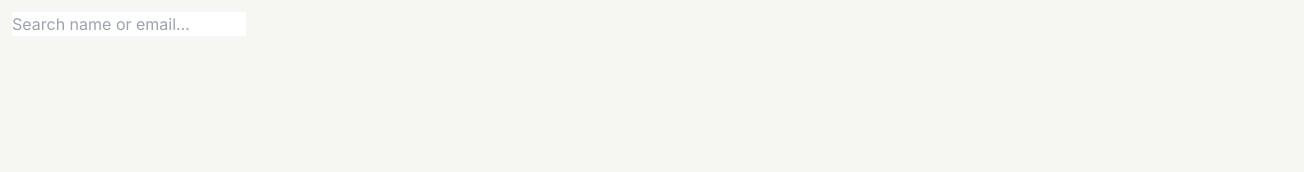
Test: ContactEmailAutocomplete keyboard and filtering › never suggests an excluded address, whatever its case
Type "al" into the dropdown labelled "email" at (129, 24), box top-left (12, 12), bottom-right (246, 36)
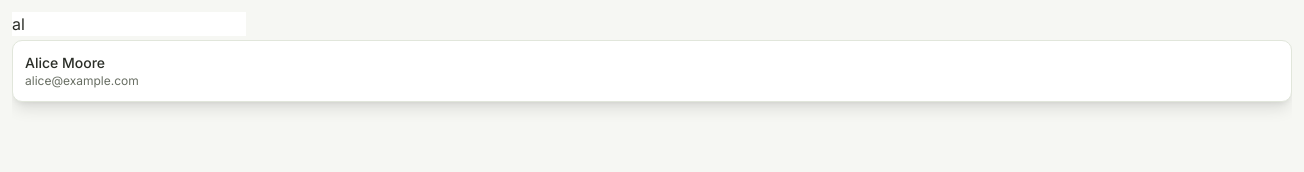
Result: the number of options is 1 at top-left (13, 45), bottom-right (1291, 97)
Result: the option shows "alice@example.com" at top-left (13, 45), bottom-right (1291, 97)
